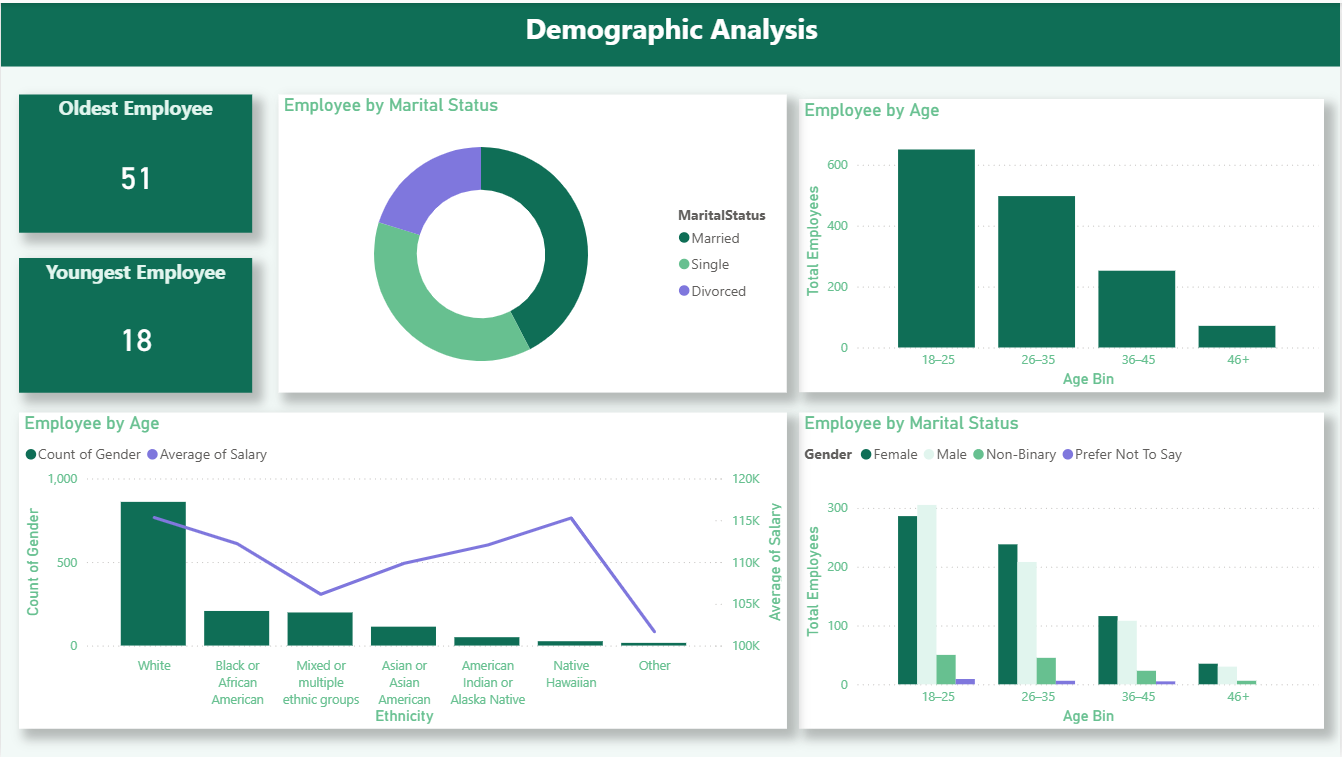

The page's visual inventory and layout, read from the dashboard file:
{"tool":"powerbi","page":{"name":"Demographic Analysis Dashboard","canvas":[1280,720],"ordinal":1},"visuals":[{"type":"textbox","box":[0,0,1280.4,60.4],"z":0},{"type":"card","title":"Youngest Employee","fields":{"Values":["_Metrics.Min Age"]},"box":[17.5,243.4,222.7,128.8],"z":1000},{"type":"card","title":"Oldest Employee","fields":{"Values":["_Metrics.Max Age"]},"box":[17.5,87.5,222.7,132],"z":2000},{"type":"columnChart","title":"Employee by Age","fields":{"Category":["Employee.Age Bin"],"Y":["_Metrics.Total Employees"]},"box":[761.9,92.3,501,279.9],"z":3000},{"type":"donutChart","title":"Employee by Marital Status","fields":{"Category":["Employee.MaritalStatus"],"Y":["_Metrics.Total Employees"]},"box":[265.6,87.5,485.1,284.7],"z":4000},{"type":"clusteredColumnChart","title":"Employee by Marital Status","fields":{"Category":["Employee.Age Bin"],"Y":["_Metrics.Total Employees"],"Series":["Employee.Gender"]},"box":[761.9,391.3,501,302.2],"z":5000},{"type":"lineStackedColumnComboChart","title":"Employee by Age","fields":{"Category":["Employee.Ethnicity"],"Y2":["Avg(Employee.Salary)"],"Y":["CountNonNull(Employee.Gender)"]},"box":[17.5,391.3,733.3,302.2],"z":6000}]}

Visuals, with their boxes in screenshot pixels (x1, y1, x2, y2), scaled from the page's 1280x720 canvas onto the 1342x757 screenshot:
textbox: locate(0, 0, 1341, 64)
"Youngest Employee" card: locate(18, 256, 252, 391)
"Oldest Employee" card: locate(18, 92, 252, 231)
"Employee by Age" columnChart: locate(799, 97, 1324, 391)
"Employee by Marital Status" donutChart: locate(278, 92, 787, 391)
"Employee by Marital Status" clusteredColumnChart: locate(799, 411, 1324, 729)
"Employee by Age" lineStackedColumnComboChart: locate(18, 411, 787, 729)
